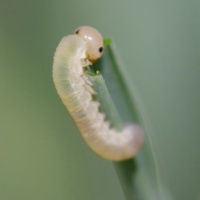insect: (52, 26, 143, 160)
